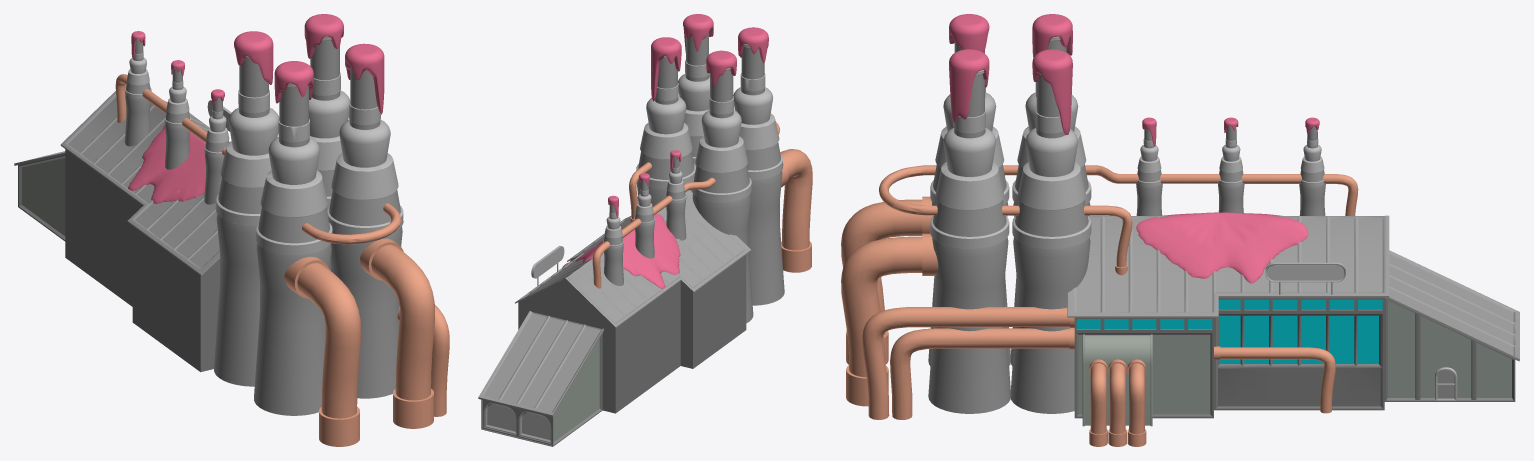
The model's file is GloopFactory.glb.
3 renders of one model, left to right at view 1: azimuth 30°, elevation 25°; view 2: azimuth 150°, elevation 25°; view 3: azimuth 270°, elevation 25°, orthographic. The views are drawn at different scales.
Parts seen in each view (by area): view 1: Cube; view 2: Cube; view 3: Cube.
Part boxes in pixels (bbox=[...]): Cube: bbox=[14, 14, 449, 446]; Cube: bbox=[478, 14, 812, 446]; Cube: bbox=[841, 14, 1519, 446].
Size of the model in its own units: 24.33 by 37.65 by 66.78.
Materials: 8 (1 with a texture image).
